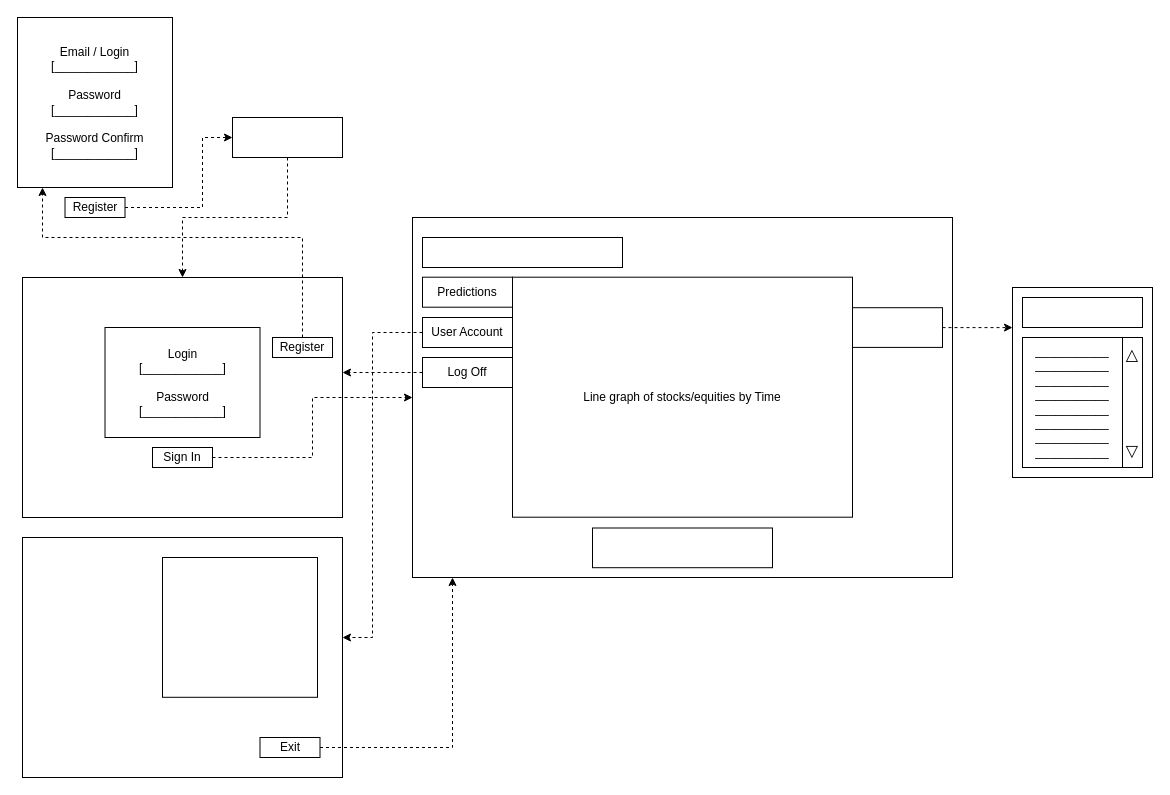
Some shapes in this 1170 by 795 pixel diagram are drawn without their labels. The shapes that lost their labels are listed below. From the top down, each one's centre as x and y in pixels, then its label:
[287,137]: Confirmation
[522,252]: Current Market State
[897,327]: Display
[1082,312]: Search
[682,547]: - Timeframe +
[240,626]: Change Password: New Password [____________] Password Confirm [____________]
